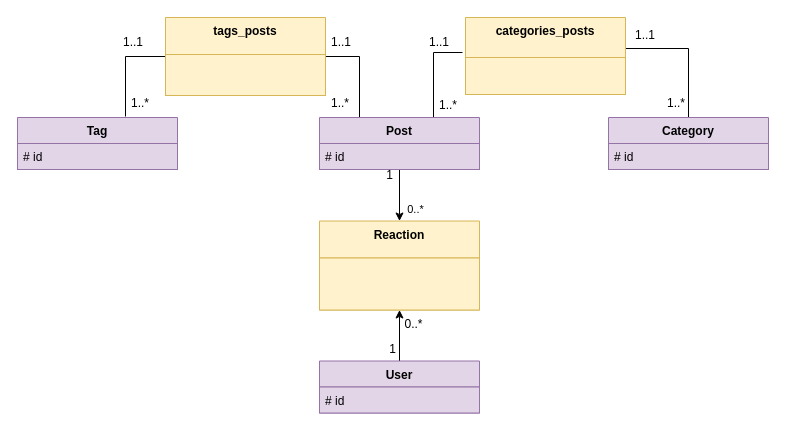
Some shapes in this 786 by 433 pixel diagram are drawn without their labels. The shapes that lost their labels are listed below. From the top down, each one's centre as x and y in pixels, then its label:
At [245,75]: "# post_id # tag_id".
At [545,75]: "# post_id #category_id".
At [399,283]: "# post_id # user_id".
